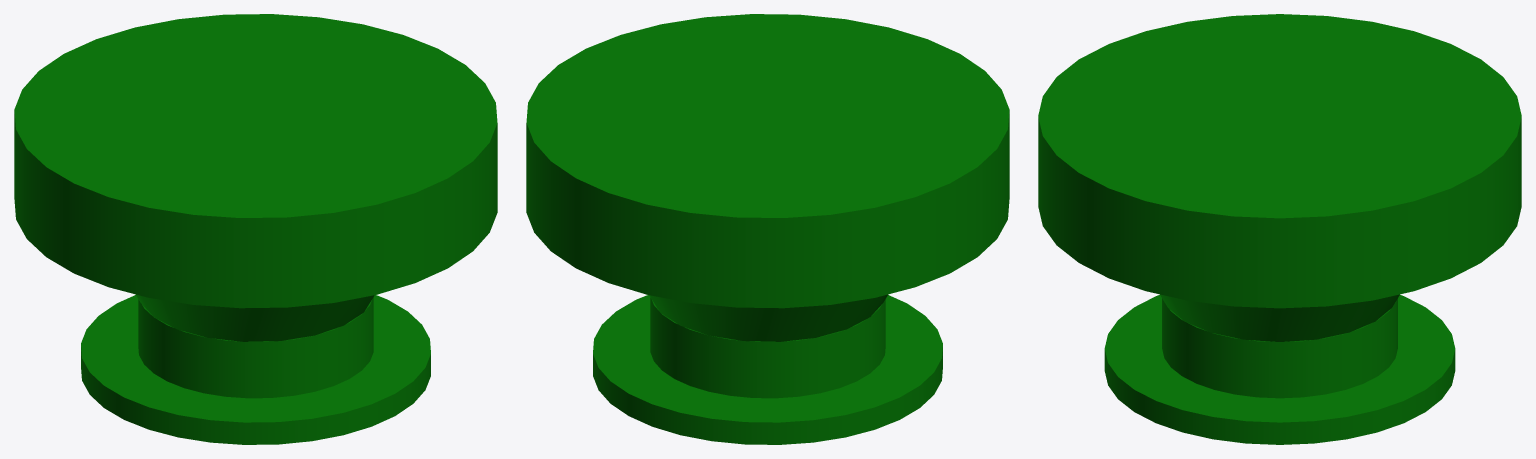
Rendered from Image-1711348062593-2281221012592_27-CX54.fbx.
3 views of the same model, side by side, from view 1: azimuth 30°, elevation 25°; view 2: azimuth 150°, elevation 25°; view 3: azimuth 270°, elevation 25° (orthographic).
Visible parts, largest first — view 1: CYLINDER 2 of SUBEQUIPMENT 1 of EQUIPMENT /27-CX54, /27-CX54/N118, CONE 1 of SUBEQUIPMENT 1 of EQUIPMENT /27-CX54; view 2: CYLINDER 2 of SUBEQUIPMENT 1 of EQUIPMENT /27-CX54, /27-CX54/N118, CONE 1 of SUBEQUIPMENT 1 of EQUIPMENT /27-CX54; view 3: CYLINDER 2 of SUBEQUIPMENT 1 of EQUIPMENT /27-CX54, /27-CX54/N118, CONE 1 of SUBEQUIPMENT 1 of EQUIPMENT /27-CX54.
Part boxes in pixels (x1=…): CYLINDER 2 of SUBEQUIPMENT 1 of EQUIPMENT /27-CX54: x1=14, y1=14, x2=497, y2=308; /27-CX54/N118: x1=81, y1=295, x2=430, y2=444; CONE 1 of SUBEQUIPMENT 1 of EQUIPMENT /27-CX54: x1=135, y1=294, x2=374, y2=341; CYLINDER 2 of SUBEQUIPMENT 1 of EQUIPMENT /27-CX54: x1=526, y1=14, x2=1009, y2=308; /27-CX54/N118: x1=593, y1=295, x2=942, y2=444; CONE 1 of SUBEQUIPMENT 1 of EQUIPMENT /27-CX54: x1=649, y1=294, x2=888, y2=341; CYLINDER 2 of SUBEQUIPMENT 1 of EQUIPMENT /27-CX54: x1=1038, y1=14, x2=1521, y2=308; /27-CX54/N118: x1=1104, y1=295, x2=1455, y2=444; CONE 1 of SUBEQUIPMENT 1 of EQUIPMENT /27-CX54: x1=1160, y1=294, x2=1399, y2=341.
Bounding box in the file's own units: 0.56 × 0.56 × 0.337.
